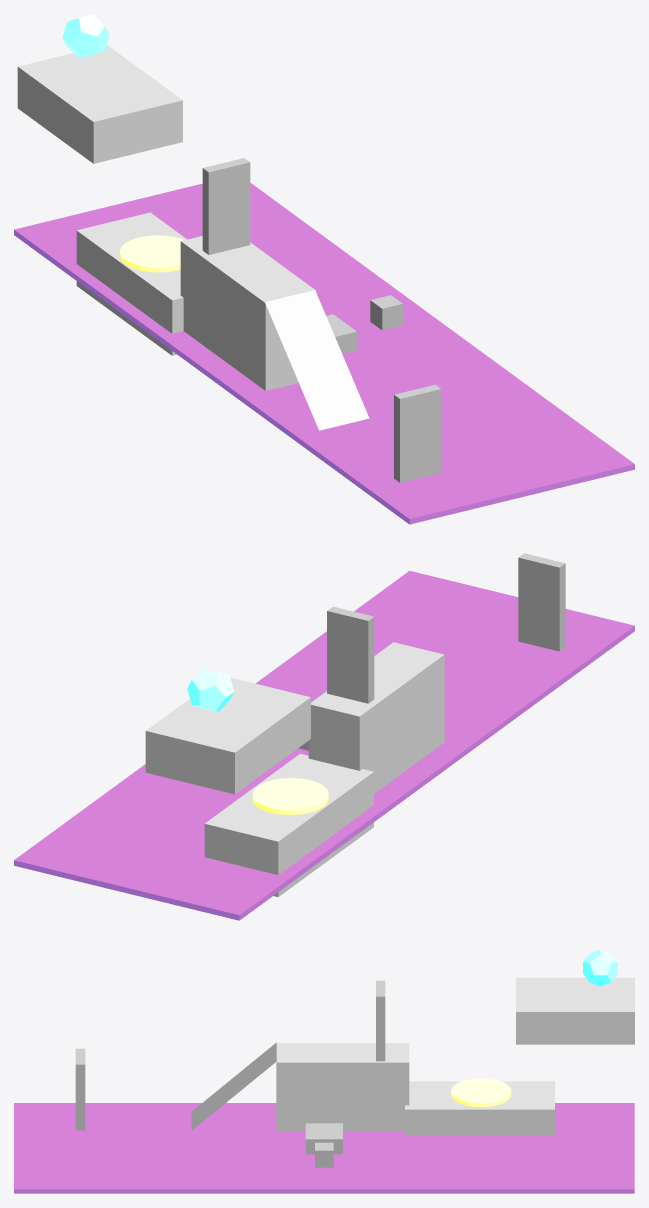
Rendered from level.glb.
The picture shows the model from 3 angles, top to bottom: view 1: azimuth 30°, elevation 25°; view 2: azimuth 150°, elevation 25°; view 3: azimuth 270°, elevation 25°; orthographic projection. The views are drawn at different scales.
Visible parts, largest first — view 1: Box, Box.002, Box.001, Plane, Box.003, LockedDoor_key_room2, Door_room2, JumpPad, Goal, Item_key, Cube; view 2: Box, Box.001, Box.002, Box.003, Door_room2, LockedDoor_key_room2, JumpPad, Goal; view 3: Box, Box.001, Box.002, Box.003, Plane, JumpPad, Goal, Cube, Door_room2, LockedDoor_key_room2, Item_key.
Boxes of the visible parts, x1,y1,x2,y2 form: Box: (14, 183, 634, 524); Box.002: (17, 45, 182, 163); Box.001: (180, 236, 316, 390); Plane: (265, 290, 369, 430); Box.003: (76, 212, 186, 355); LockedDoor_key_room2: (202, 158, 250, 254); Door_room2: (394, 384, 441, 482); JumpPad: (120, 235, 184, 272); Goal: (62, 14, 109, 58); Item_key: (370, 295, 402, 330); Cube: (326, 314, 356, 353); Box: (14, 570, 634, 920); Box.001: (308, 642, 444, 793); Box.002: (145, 677, 310, 794); Box.003: (204, 753, 373, 897); Door_room2: (518, 553, 565, 651); LockedDoor_key_room2: (327, 606, 374, 703); JumpPad: (252, 778, 328, 814); Goal: (187, 668, 234, 711); Box: (14, 1103, 634, 1193); Box.001: (276, 1043, 409, 1131); Box.002: (516, 977, 634, 1044); Box.003: (405, 1081, 554, 1135); Plane: (191, 1042, 276, 1130); JumpPad: (451, 1078, 511, 1107); Goal: (583, 949, 617, 986); Cube: (305, 1123, 342, 1154); Door_room2: (75, 1048, 85, 1130); LockedDoor_key_room2: (376, 980, 385, 1061); Item_key: (315, 1142, 333, 1167).
Bounding box in the file's own units: 10.89 × 11.14 × 33.11.
